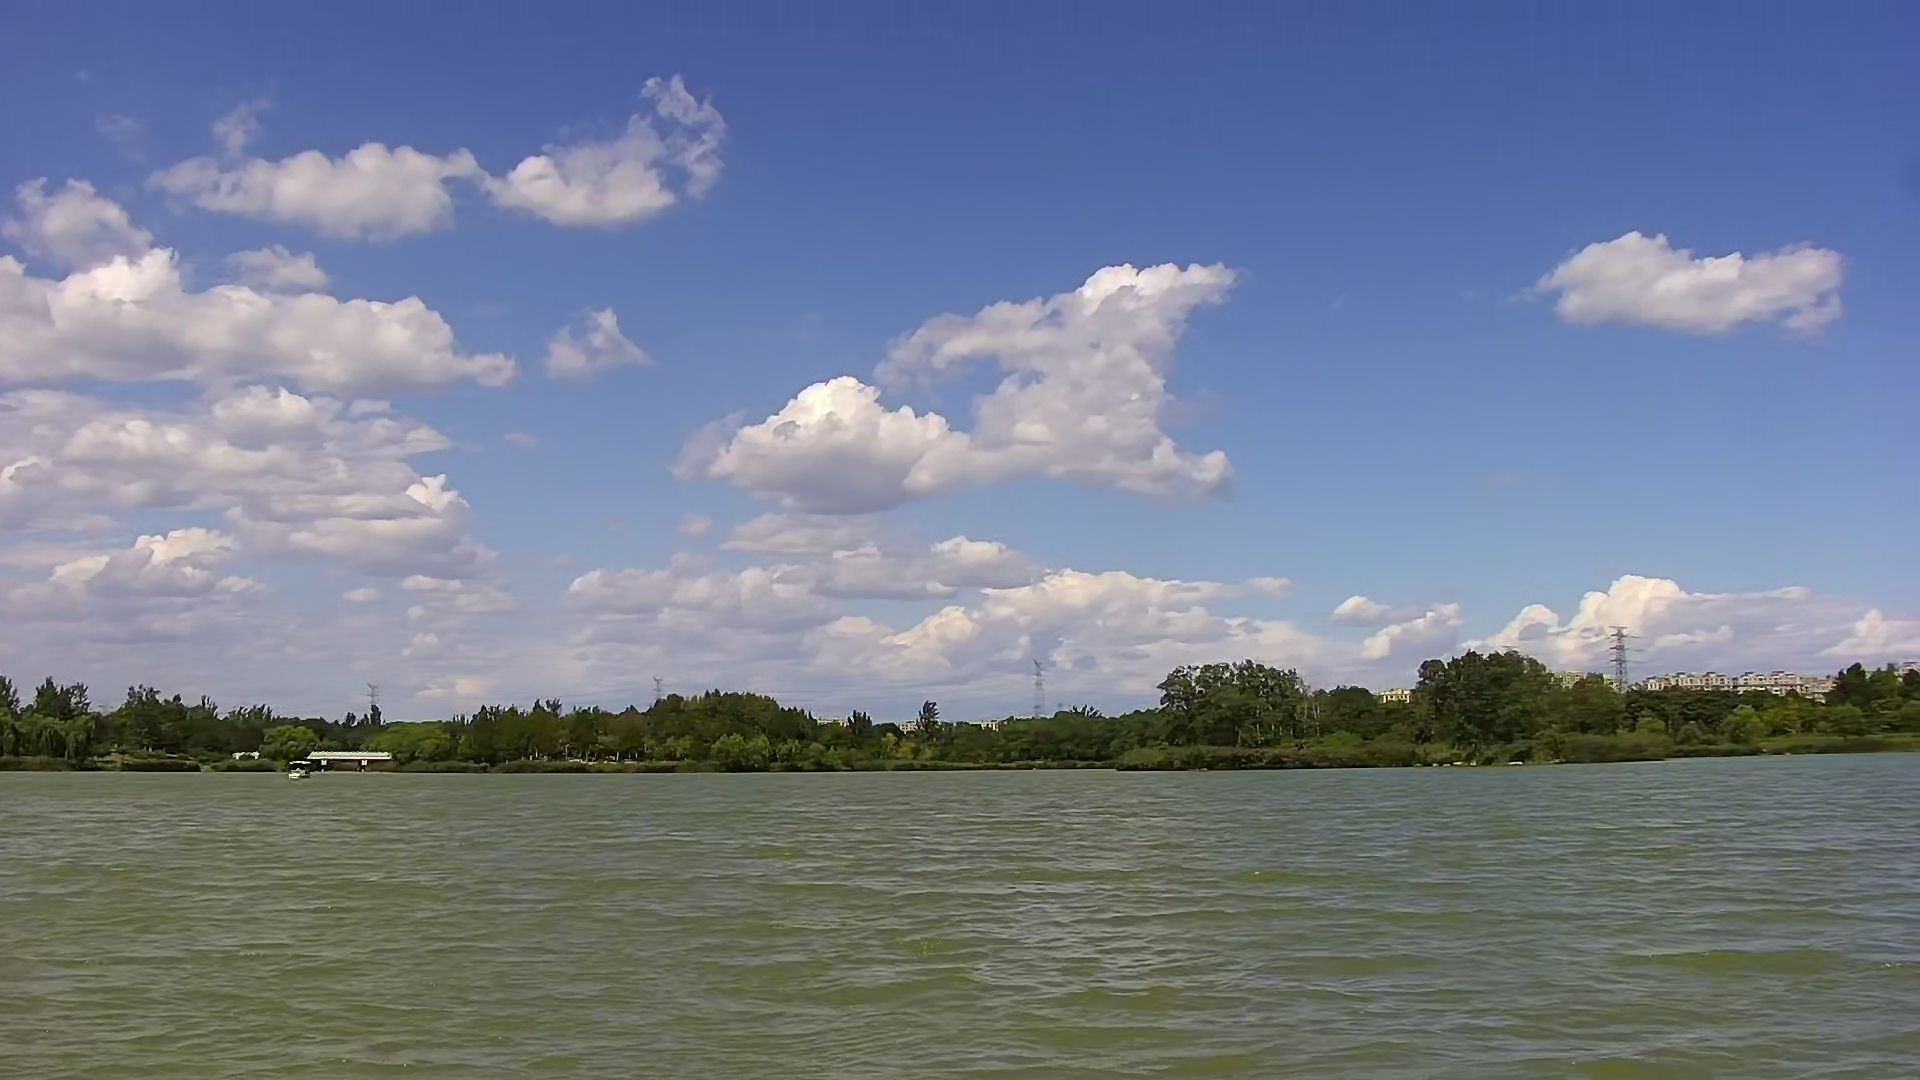bridge: (301, 742, 400, 782)
